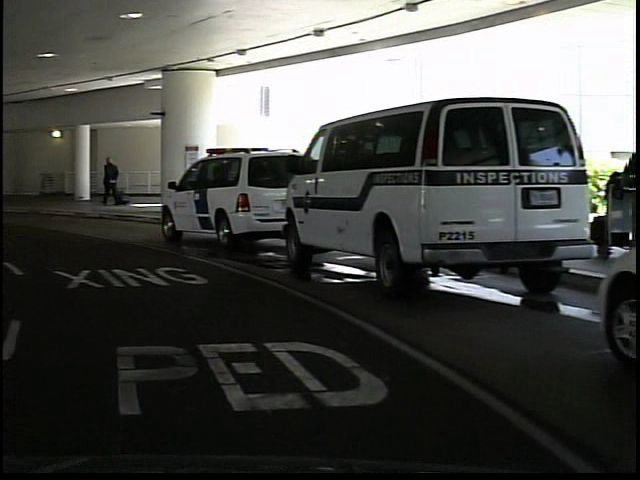person: (97, 151, 122, 211)
